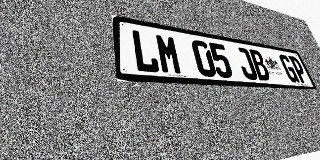0: (190, 39, 218, 77)
5: (208, 42, 234, 78)
B: (248, 49, 272, 81)
G: (278, 54, 300, 83)
J: (234, 47, 259, 80)
L: (130, 29, 160, 74)
M: (154, 33, 183, 75)
P: (288, 56, 310, 83)
